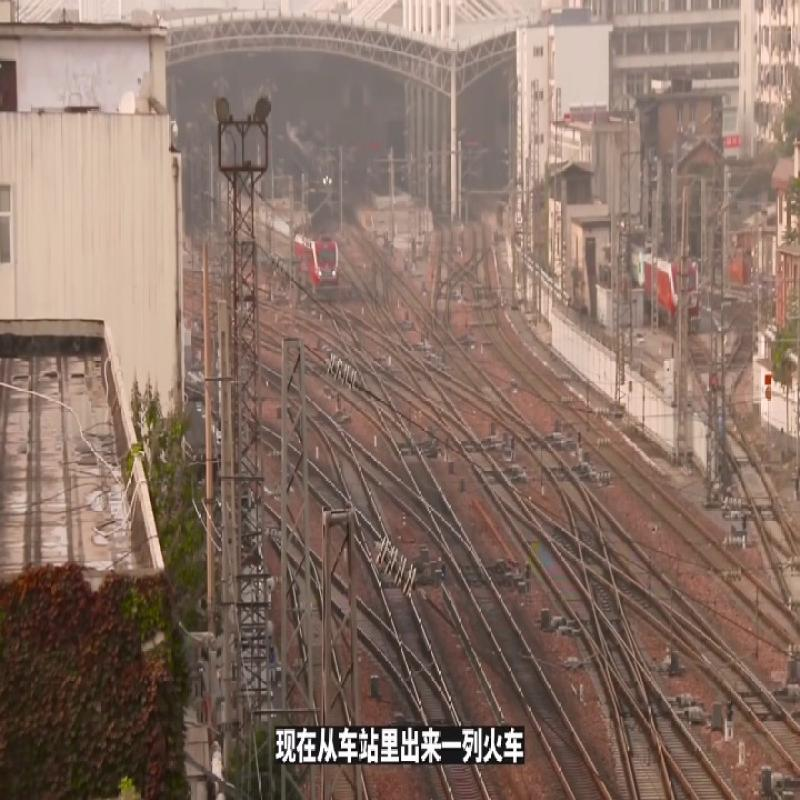train: (290, 228, 354, 303)
